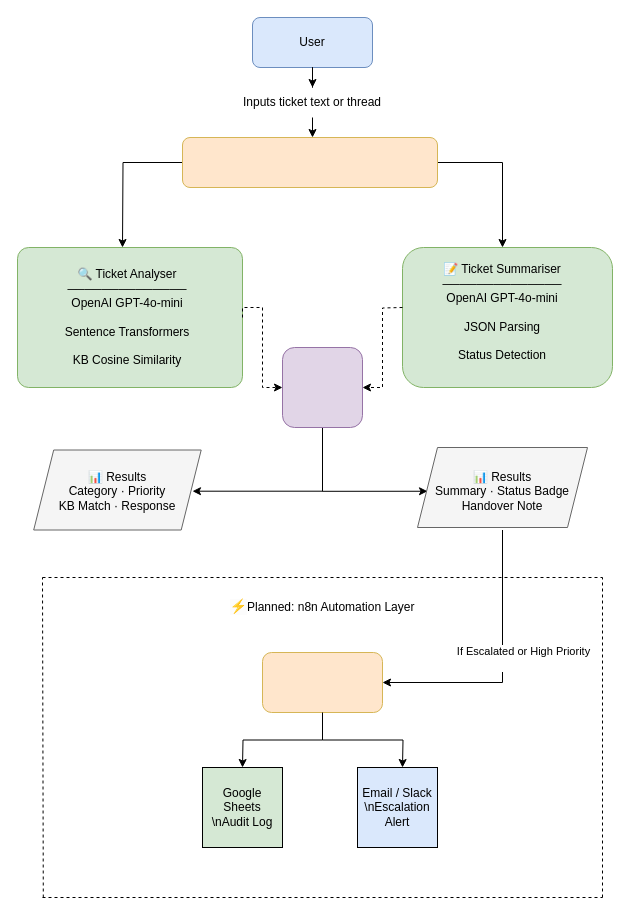
The diagram is 630 pixels wide and 916 high, and some of its shapes have lost their labels. The shapes that lost their labels are listed below. From the top down, each one's centre as x and y in pixels, then its label:
the point at 310,162: Streamlit Web App
the point at 322,387: 🤖 OpenAI API \ nGPT-4o-mini
the point at 322,682: 🔗 n8n Webhook
